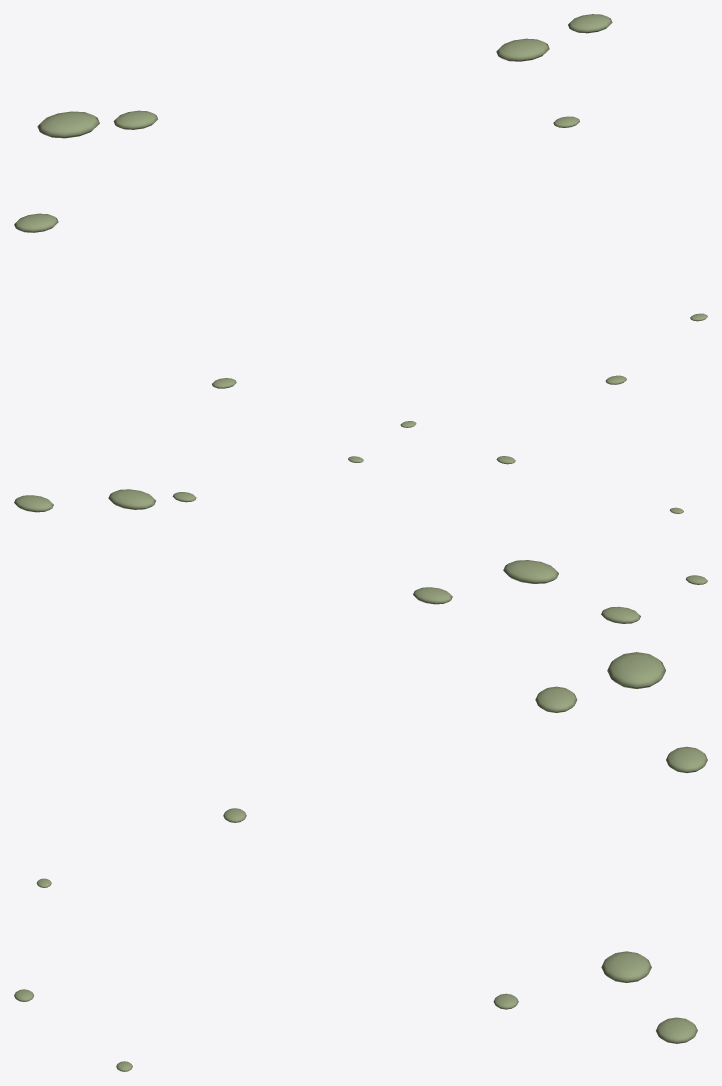
Rendered from SM_OutcropMoss.fbx.
3 views of the same model, one above another, from view 1: azimuth 30°, elevation 25°; view 2: azimuth 150°, elevation 25°; view 3: azimuth 270°, elevation 25° (orthographic). The views are drawn at different scales.
Parts seen in each view (by area): view 1: SM_OutcropMoss; view 2: SM_OutcropMoss; view 3: SM_OutcropMoss.
Boxes of the visible parts, box(x1,y1,x2,y2) form: SM_OutcropMoss: box(14, 14, 707, 427); SM_OutcropMoss: box(14, 456, 707, 623); SM_OutcropMoss: box(14, 652, 707, 1071).
Size of the model in its own units: 8760 by 6911 by 1891.
